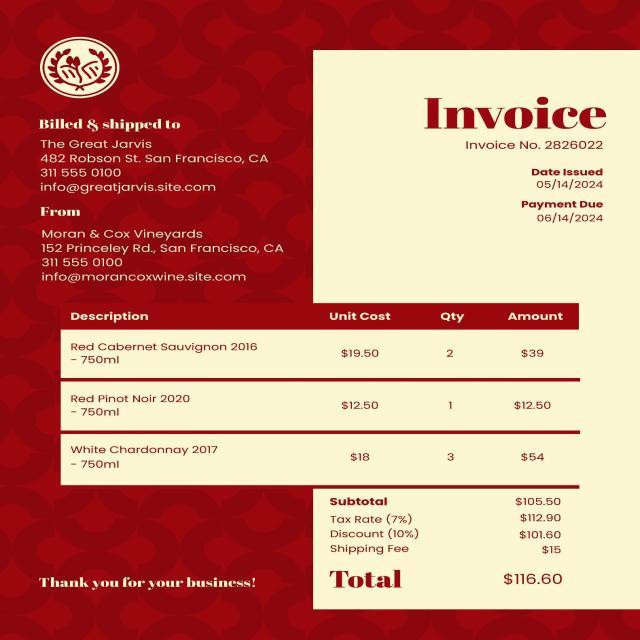ROI: (61, 308, 576, 472), (327, 492, 567, 592), (36, 205, 306, 286), (32, 115, 277, 200), (409, 92, 615, 155), (514, 166, 609, 226), (34, 574, 266, 590)
